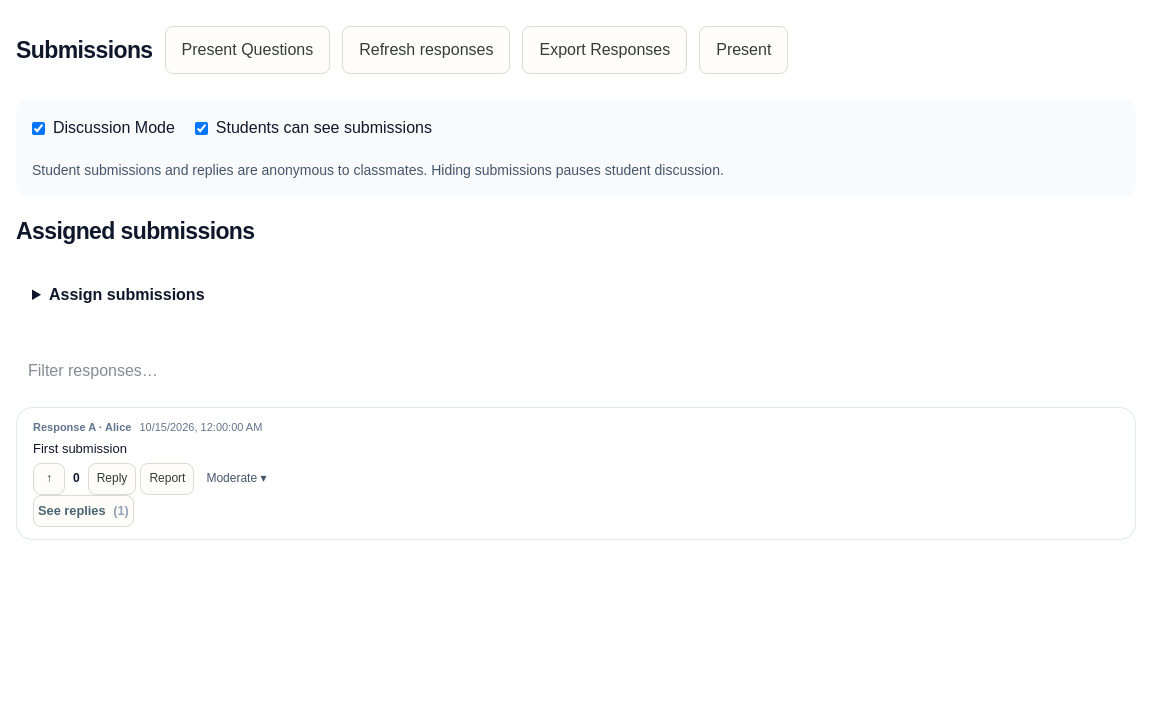
Test: exports are anonymous by default and offer both formats
Click the button "Export Responses" at (605, 50), box [522, 26, 687, 74]
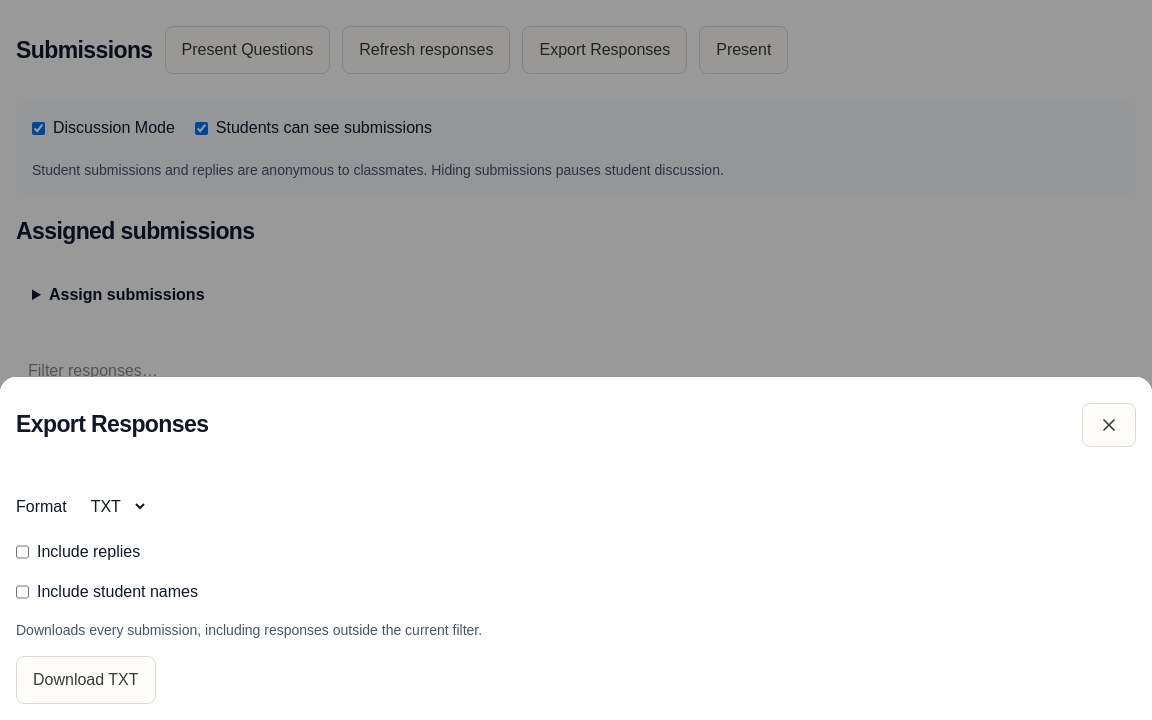
Check: the checkbox labelled "Include replies" is not checked, box [16, 540, 29, 564]
Check: the checkbox labelled "Include student names" is not checked, box [16, 580, 29, 604]
Select "CSV" in the dropdown labelled "Format" at (113, 506), box [79, 489, 148, 524]
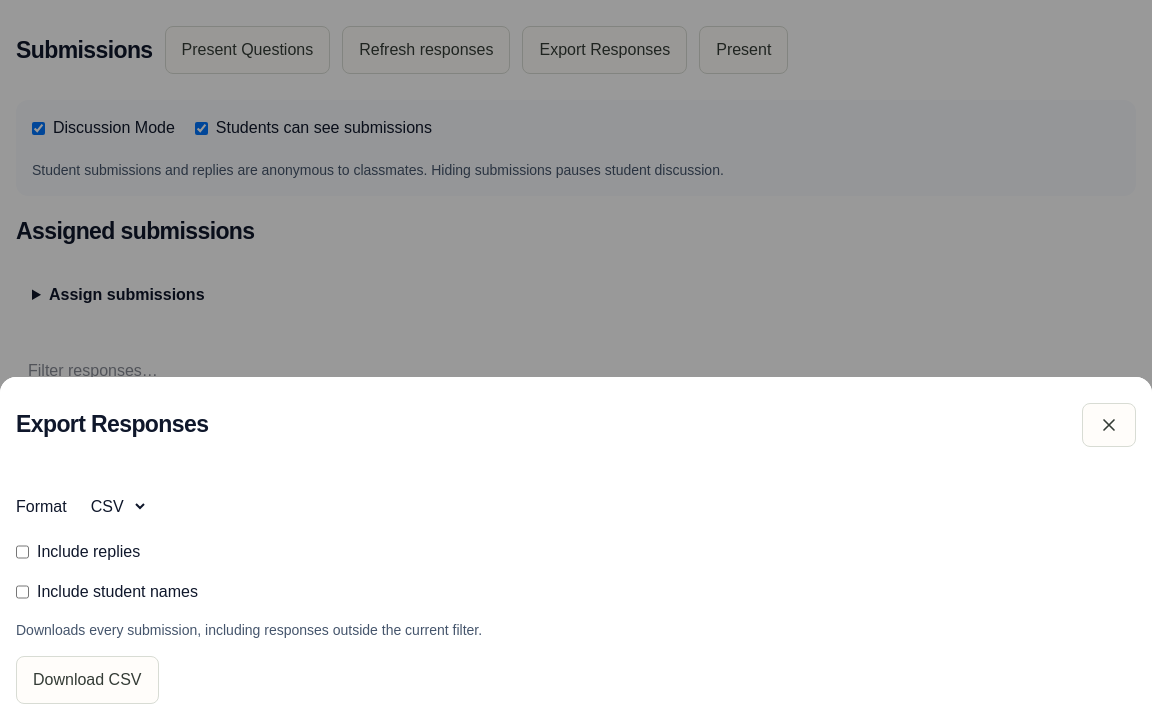
Check: the button "Download CSV" is shown, box [16, 656, 158, 704]
